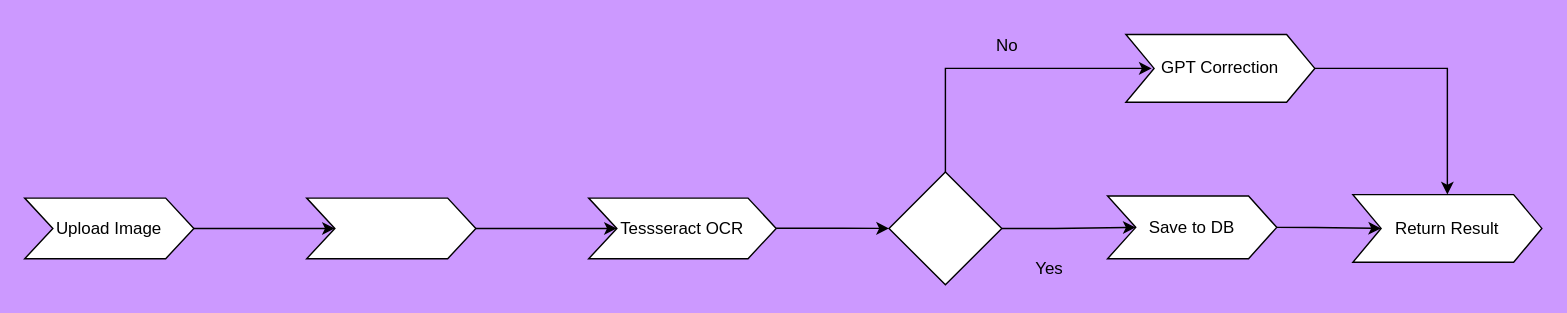
Image size: 1567x313. Some labels were removed from this diagram. The shapes that lost their labels are listed below. From the top down, each one's centre as x and y in pixels, then its label:
(390,228): Preprocessing
(945,228): Fallback Check?
